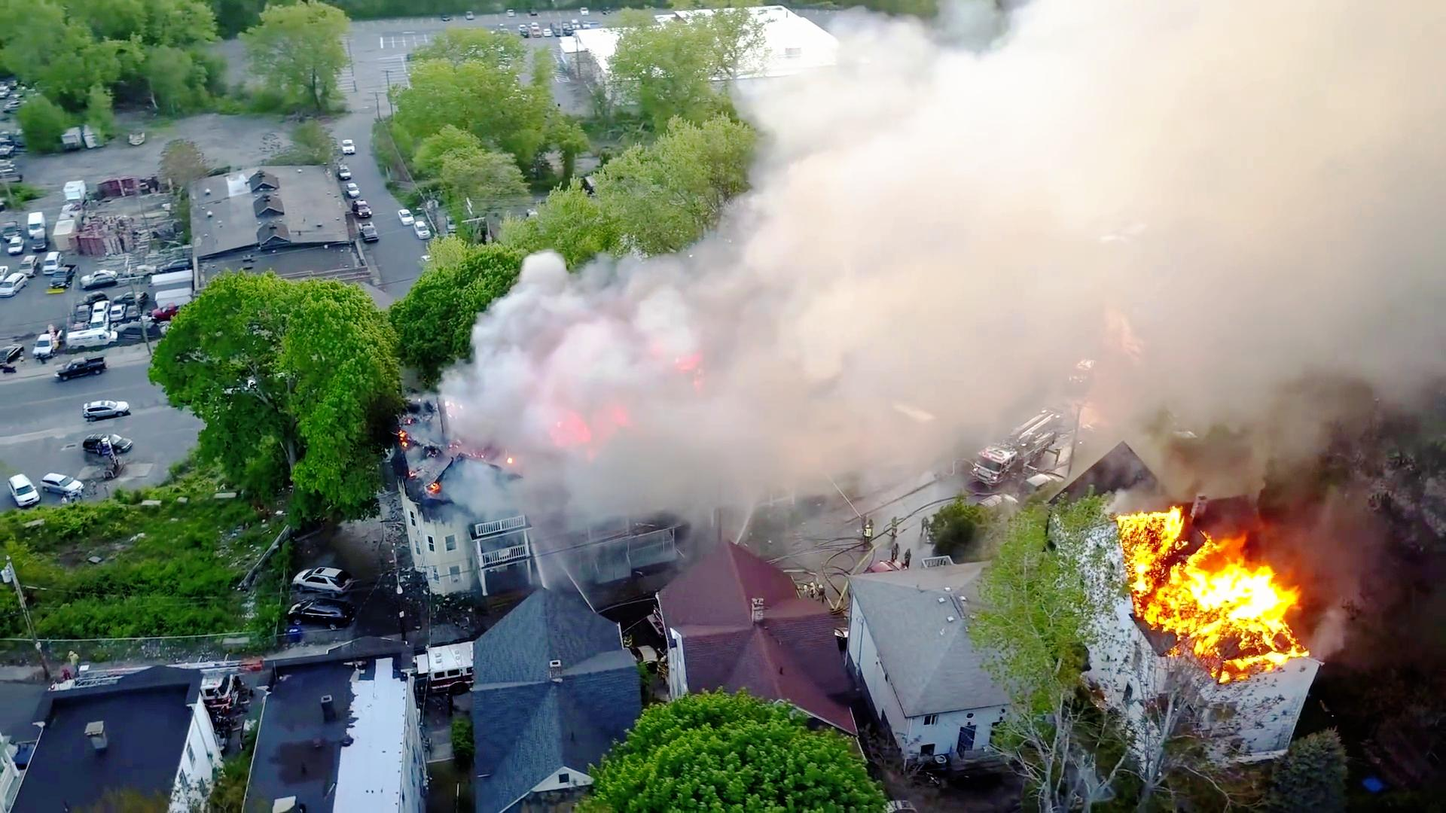fire: (1111, 498, 1309, 670)
smoke: (700, 271, 986, 464)
